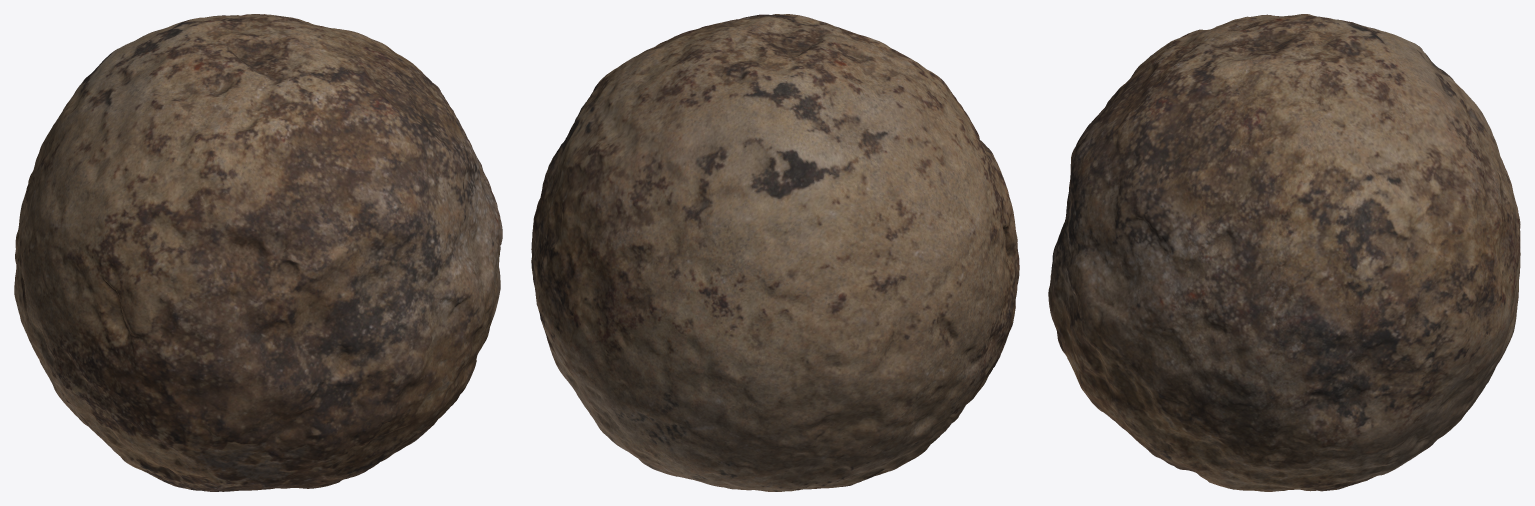
File: round_object.glb
3 views of the same model, side by side, from view 1: azimuth 30°, elevation 25°; view 2: azimuth 150°, elevation 25°; view 3: azimuth 270°, elevation 25° (orthographic).
Visible parts, largest first — view 1: Object_3, Object_2; view 2: Object_3, Object_2; view 3: Object_2, Object_3.
Boxes of the visible parts, x1,y1,x2,y2 form: Object_3: (15, 14, 423, 491); Object_2: (14, 14, 502, 488); Object_3: (531, 38, 1019, 491); Object_2: (531, 14, 985, 449); Object_2: (1048, 14, 1520, 491); Object_3: (1048, 15, 1519, 481).
Size of the model in its own units: 0.0637 by 0.0605 by 0.062.
Materials: 1 (1 with a texture image).
